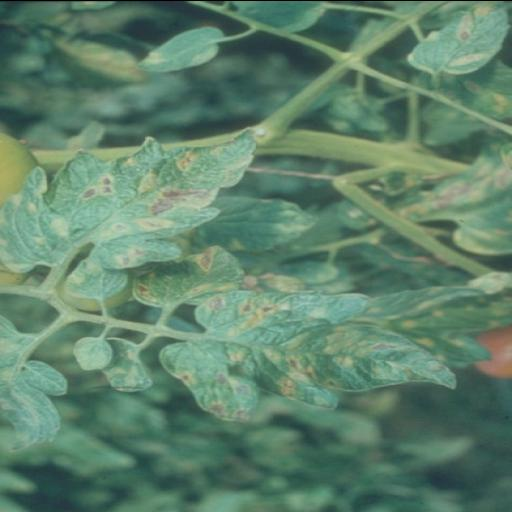Leaf Mold: (0, 127, 258, 293), (160, 286, 460, 421), (406, 0, 506, 81)
